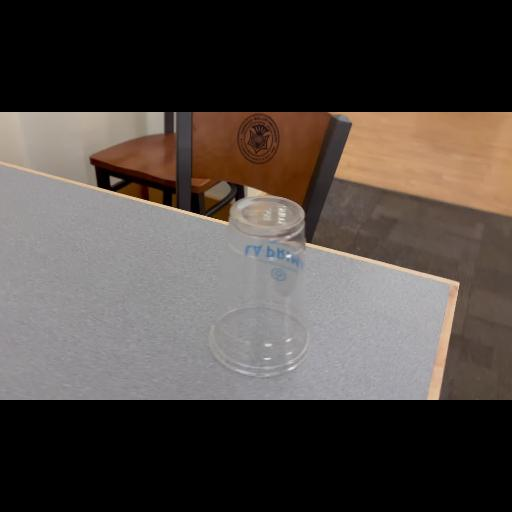lp_plastic_cup: (211, 200, 309, 374)
